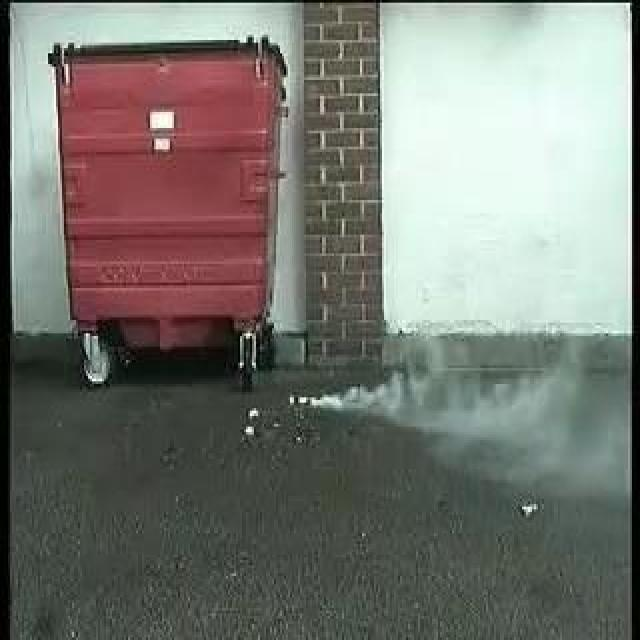Smoke: (316, 333, 568, 456)
